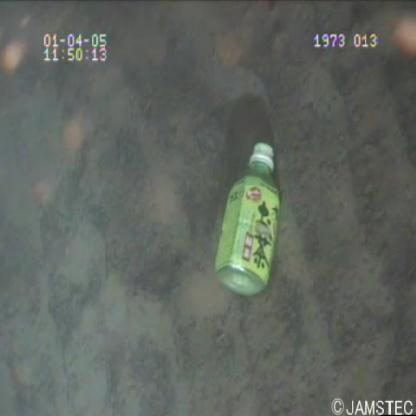Rác: (209, 136, 288, 297)
